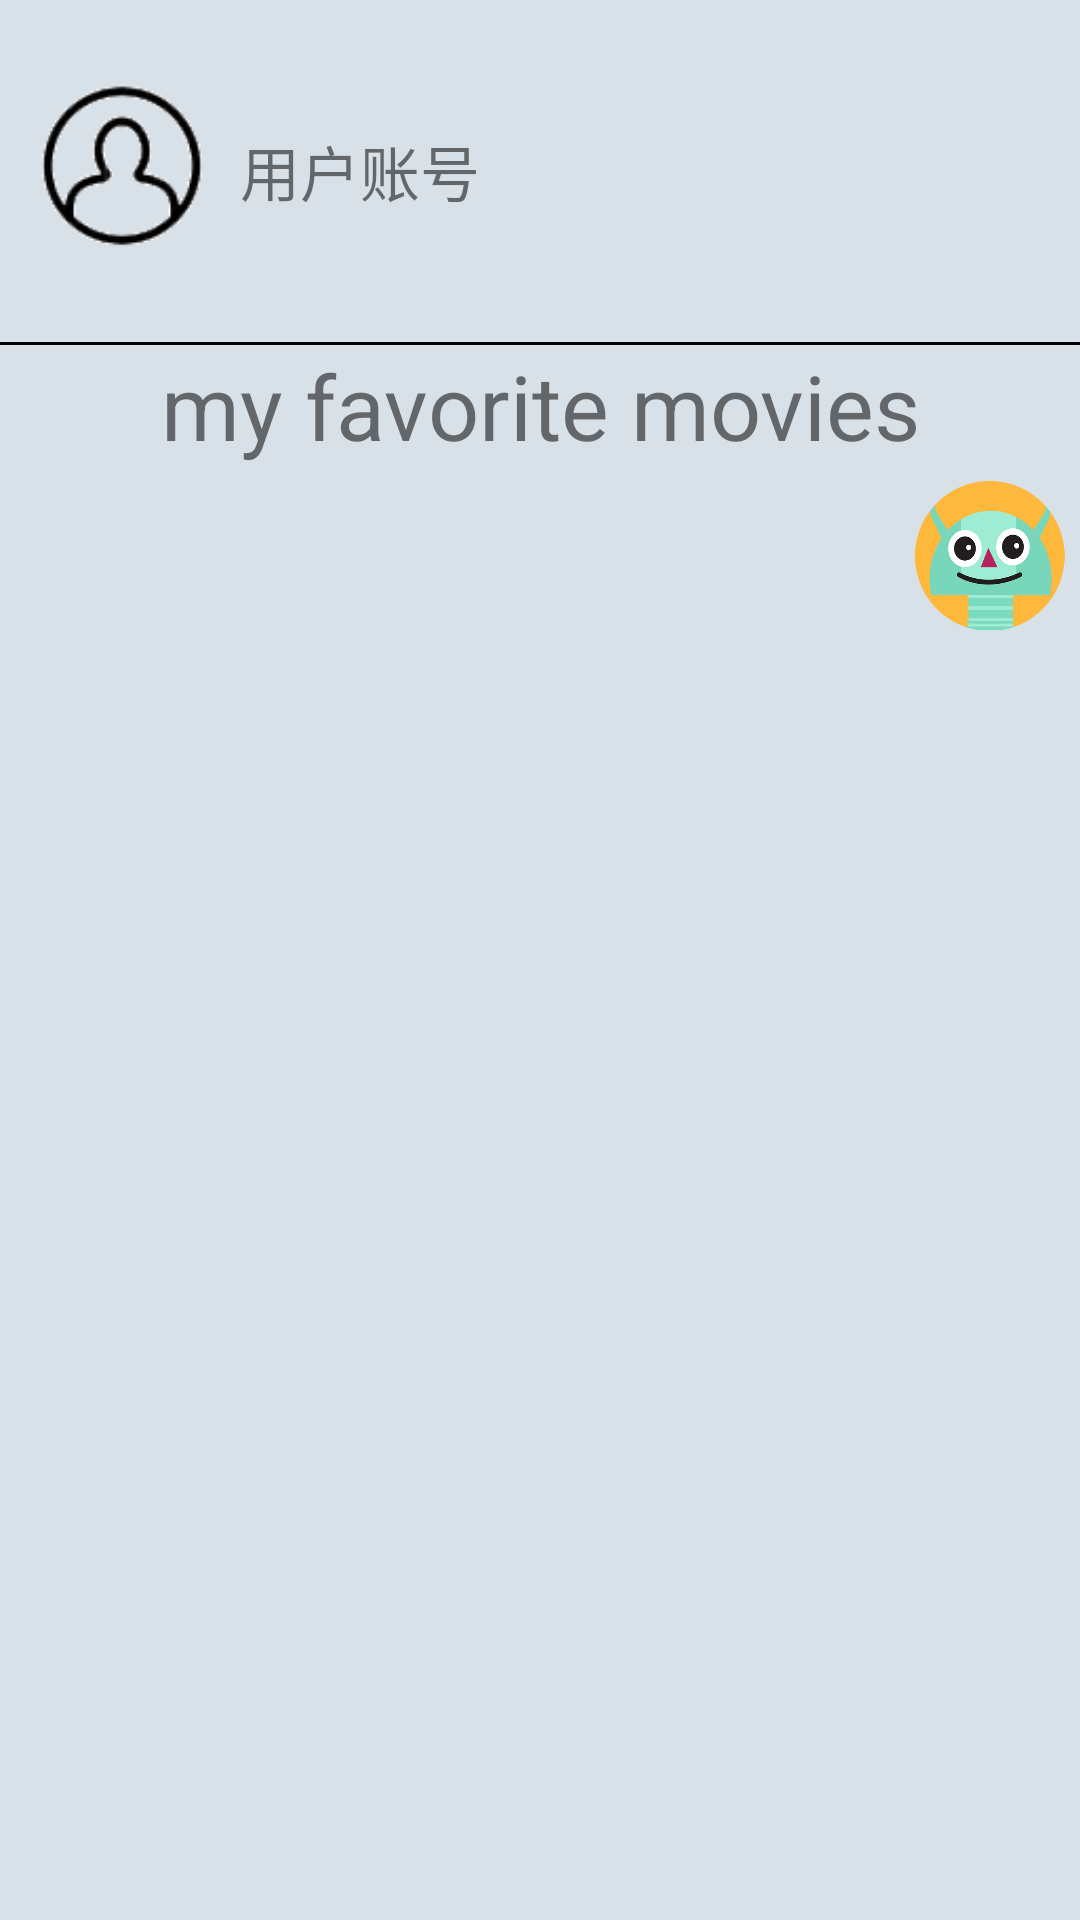

Where to tap for icons on this 1080*1920 app screen, as (x,y):
person: (122,165)
robot: (990,555)
